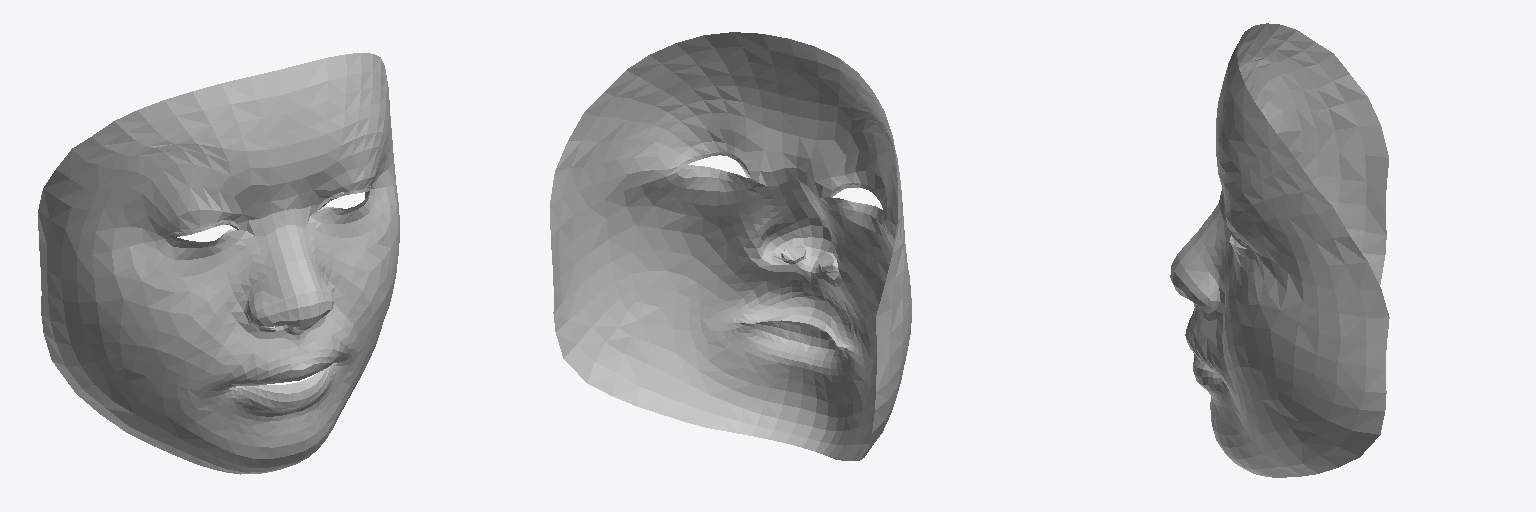
The model's file is browOuterUp_R.obj.
3 views of the same model, side by side, from view 1: azimuth 30°, elevation 25°; view 2: azimuth 150°, elevation 25°; view 3: azimuth 270°, elevation 25° (orthographic).
Parts seen in each view (by area): view 1: default; view 2: default; view 3: default.
Boxes of the visible parts, x1,y1,x2,y2 form: default: [38, 53, 399, 474]; default: [550, 32, 911, 460]; default: [1170, 23, 1389, 477].
Bounding box in the file's own units: 0.1624 × 0.1851 × 0.0913.